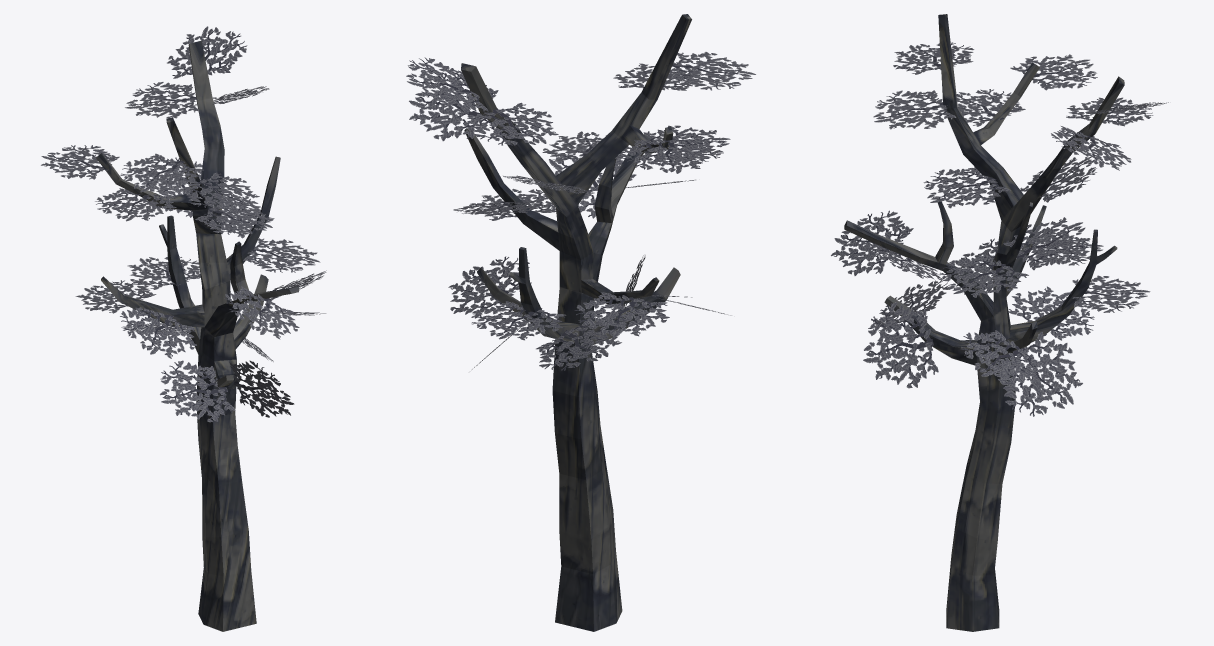
Rendered from TreeWithLeaves.fbx.
3 renders of one model, left to right at view 1: azimuth 30°, elevation 25°; view 2: azimuth 150°, elevation 25°; view 3: azimuth 270°, elevation 25°, orthographic. The views are drawn at different scales.
Visible parts, largest first — view 1: Treebody, Plane.008, Plane.013, Plane.012, Plane.009, Plane.018, Plane.002, Plane.020, Plane.016, Plane.015, Plane.017, Plane.001 (+5 smaller); view 2: Treebody, Plane.014, Plane.020, Plane.006, Plane.011, Plane.012, Plane.001, Plane.004, Plane, Plane.018, Plane.005, Plane.017 (+4 smaller); view 3: Treebody, Plane.009, Plane.019, Plane.004, Plane.007, Plane.002, Plane.015, Plane.017, Plane.016, Plane.006, Plane.001, Plane (+9 smaller).
Boxes of the visible parts, box(x1,y1,x2,y2) form: Treebody: box(96, 40, 299, 631); Plane.008: box(160, 360, 235, 422); Plane.013: box(120, 307, 196, 358); Plane.012: box(167, 26, 247, 78); Plane.009: box(229, 360, 294, 417); Plane.018: box(120, 153, 203, 194); Plane.002: box(224, 286, 299, 339); Plane.020: box(125, 82, 198, 118); Plane.016: box(179, 172, 259, 210); Plane.015: box(243, 238, 320, 272); Plane.017: box(195, 200, 274, 235); Plane.001: box(41, 145, 119, 179); Treebody: box(461, 14, 691, 631); Plane.014: box(575, 292, 669, 337); Plane.020: box(467, 102, 558, 145); Plane.006: box(536, 316, 621, 370); Plane.011: box(409, 73, 498, 141); Plane.012: box(406, 57, 488, 113); Plane.001: box(621, 138, 715, 173); Plane.004: box(448, 256, 531, 318); Plane: box(471, 301, 566, 340); Plane.018: box(671, 52, 755, 90); Plane.005: box(643, 125, 730, 163); Plane.017: box(542, 131, 632, 161); Treebody: box(844, 14, 1124, 631); Plane.009: box(863, 302, 938, 388); Plane.019: box(996, 331, 1082, 416); Plane.004: box(960, 330, 1045, 384); Plane.007: box(1003, 217, 1086, 270); Plane.002: box(831, 210, 913, 275); Plane.015: box(939, 254, 1028, 297); Plane.017: box(923, 167, 1010, 208); Plane.016: box(873, 90, 956, 129); Plane.006: box(1008, 286, 1094, 340); Plane.001: box(1010, 54, 1097, 90); Plane: box(1070, 275, 1150, 312).
Size of the model in its own units: 1224 by 2102 by 1327.
